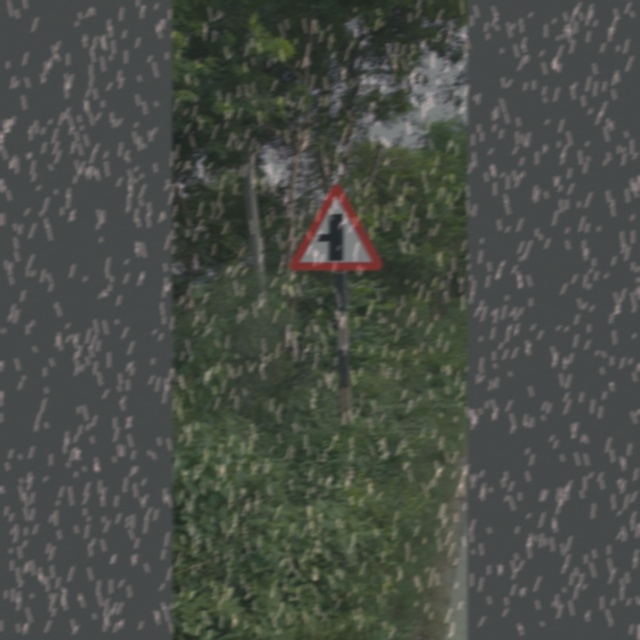Side_Road_Left: (286, 186, 377, 271)
